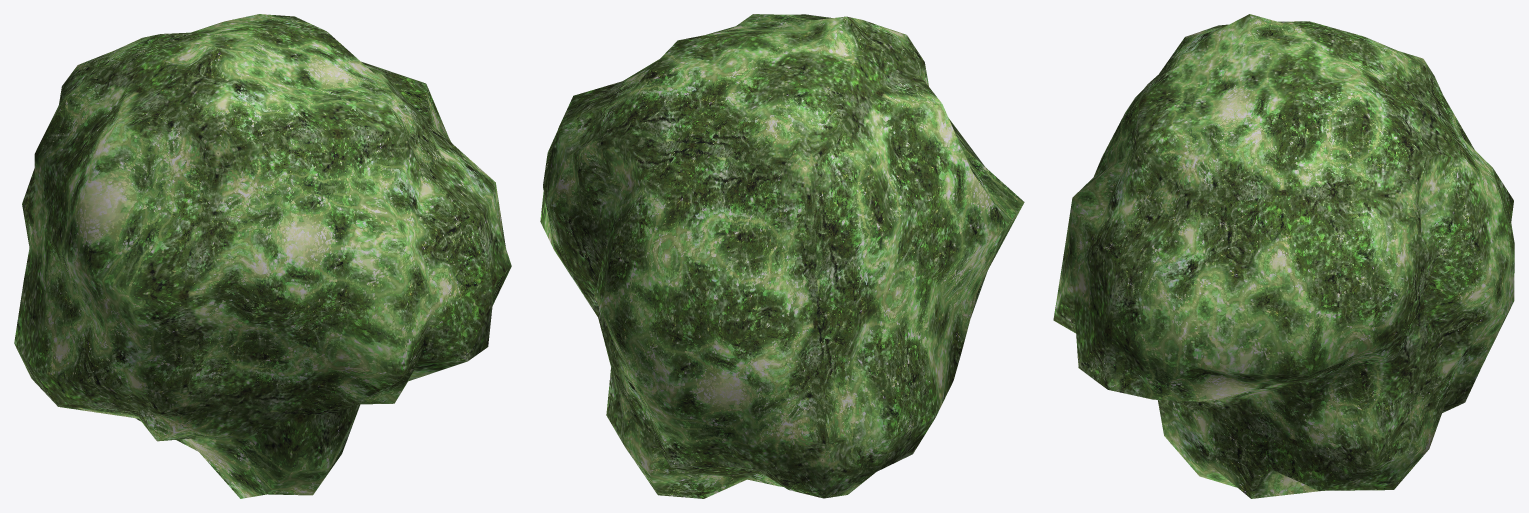
The model's file is asteroid_acid_medium_s01_l0.fbx.
3 renders of one model, left to right at view 1: azimuth 30°, elevation 25°; view 2: azimuth 150°, elevation 25°; view 3: azimuth 270°, elevation 25°, orthographic. The views are drawn at different scales.
Visible parts, largest first — view 1: mesh_node; view 2: mesh_node; view 3: mesh_node.
Part boxes in pixels (<box>): mesh_node: <box>14,14,511,498</box>; mesh_node: <box>540,14,1024,498</box>; mesh_node: <box>1053,14,1514,498</box>.
Size of the model in its own units: 66.12 by 71.29 by 66.97.
Materials: 1 (1 with a texture image).
